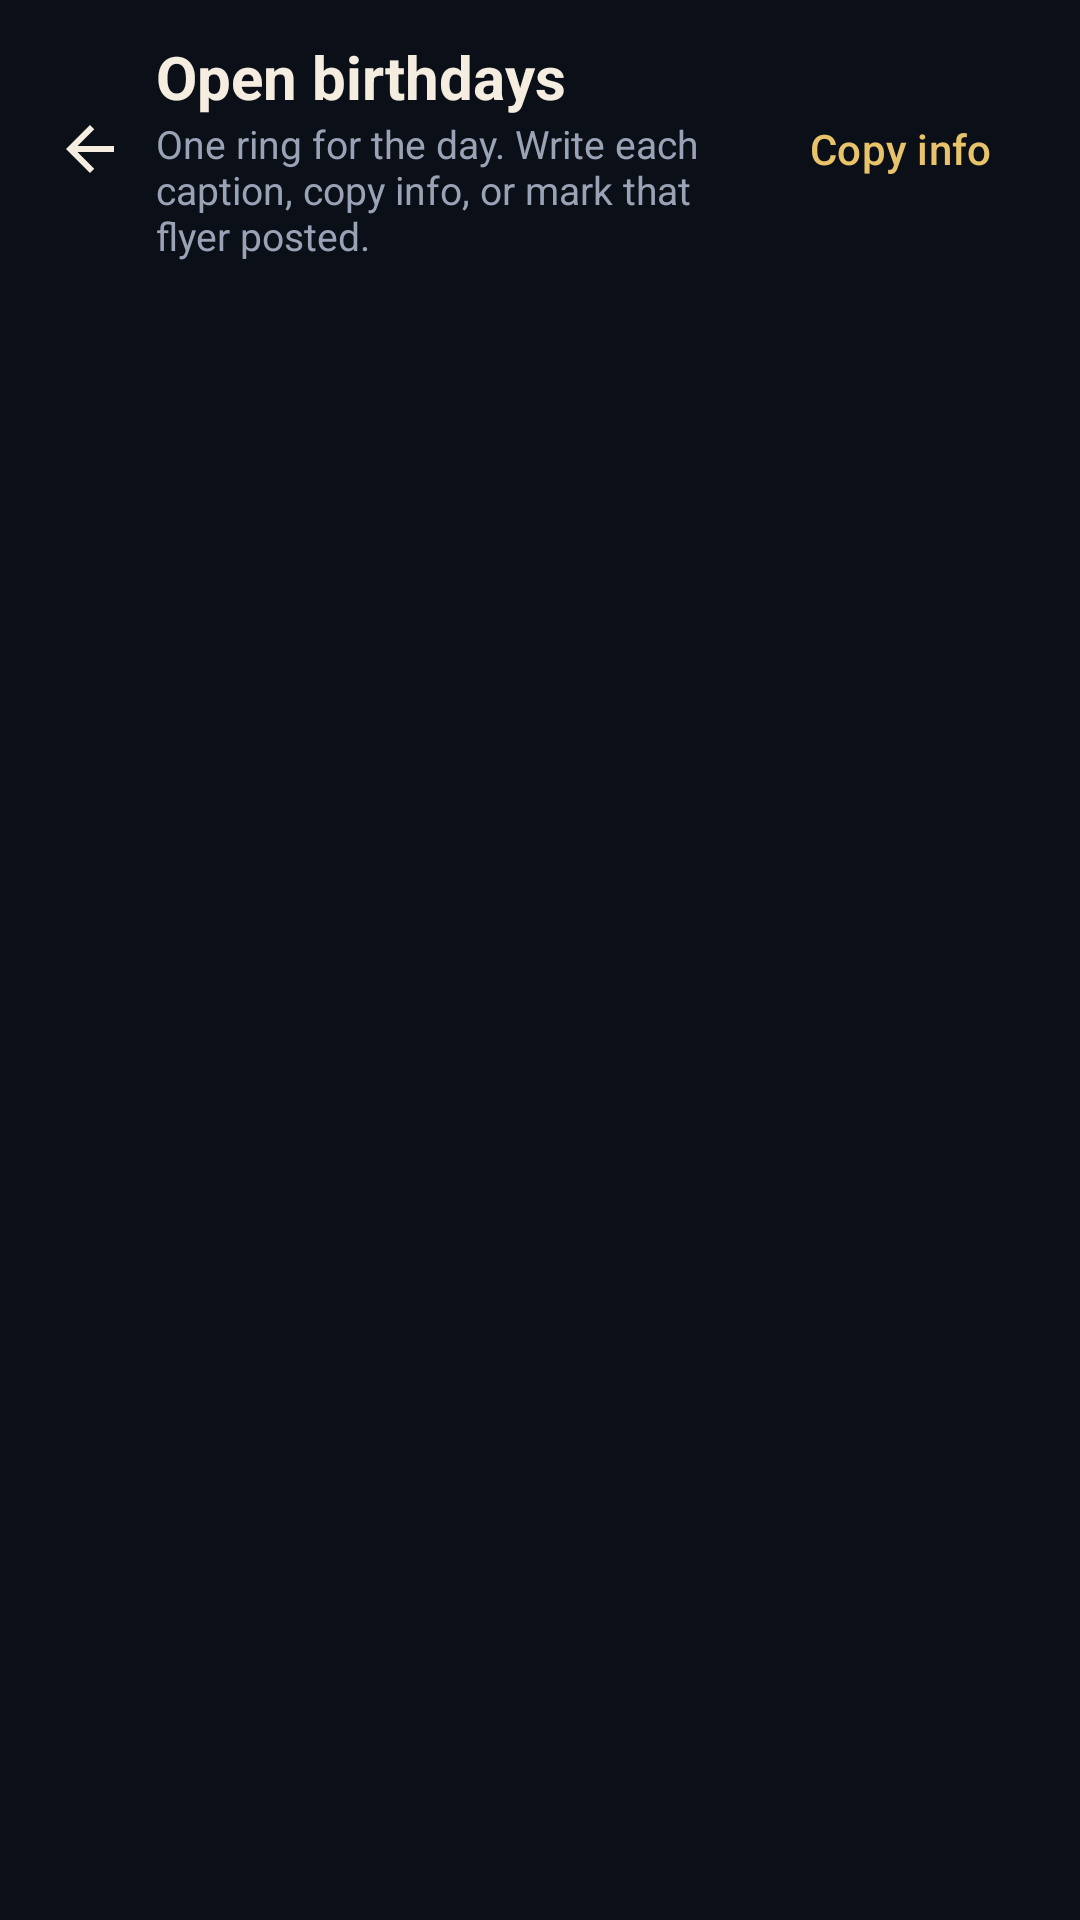

Icons on this 1080*1920 Android screen, each with the point to tap as [x,y]:
Back: [90,149]
